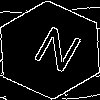N: (25, 25, 85, 82)
